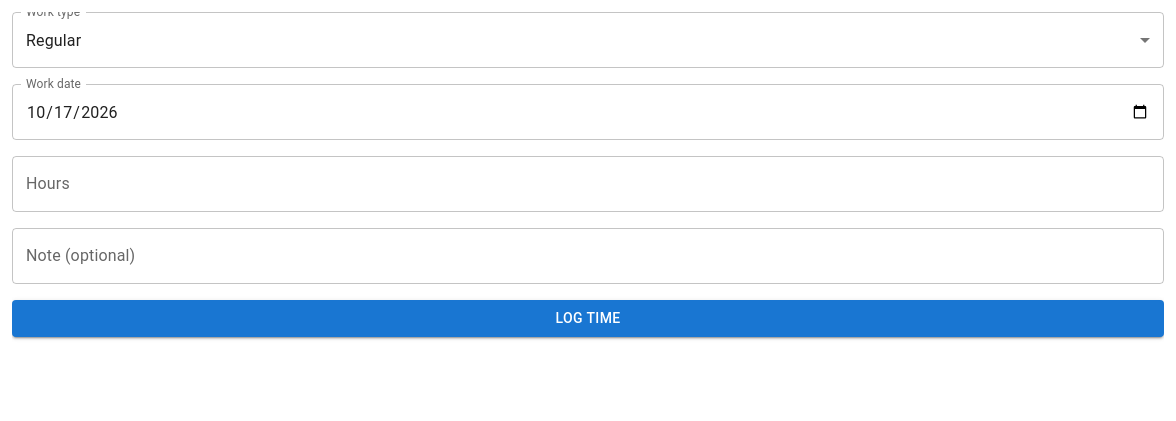
Test: TimeLogForm › shows the daily-limit conflict from the API
The image size is (1176, 421).
Type "2" into the field labelled "Hours" at [588, 184], box 12,156 -> 1164,212
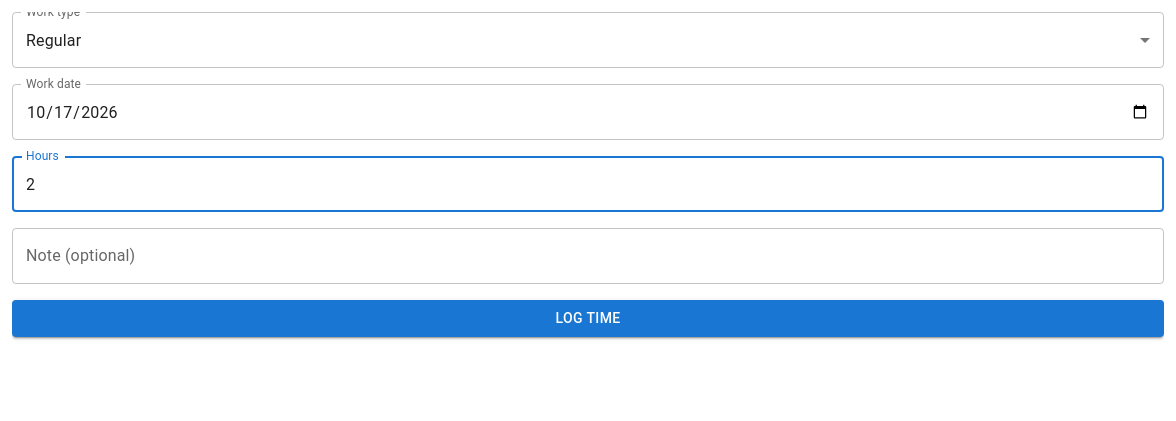
Click the button "Log time" at [588, 318], box 12,300 -> 1164,336
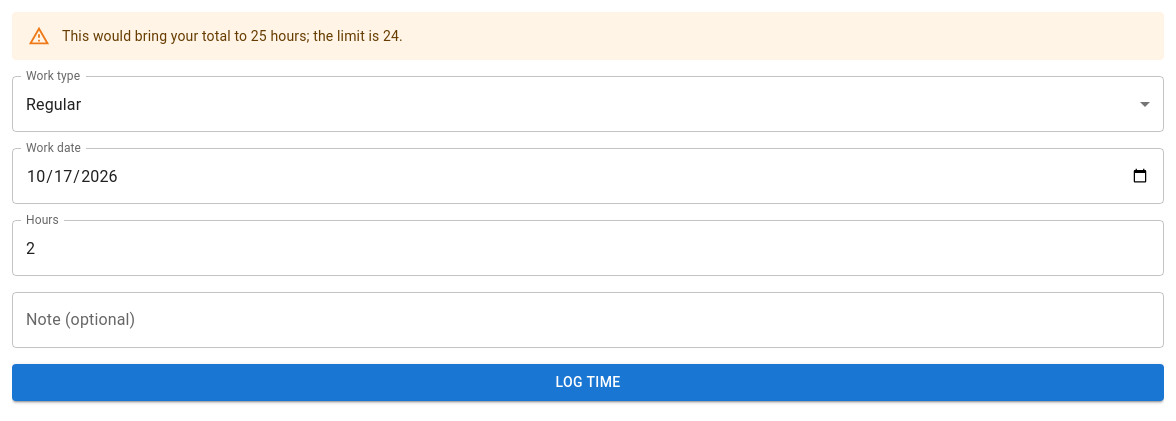
Result: the text "This would bring your total to 25 hours; the limit is 24." is shown at 62,28 -> 403,44
